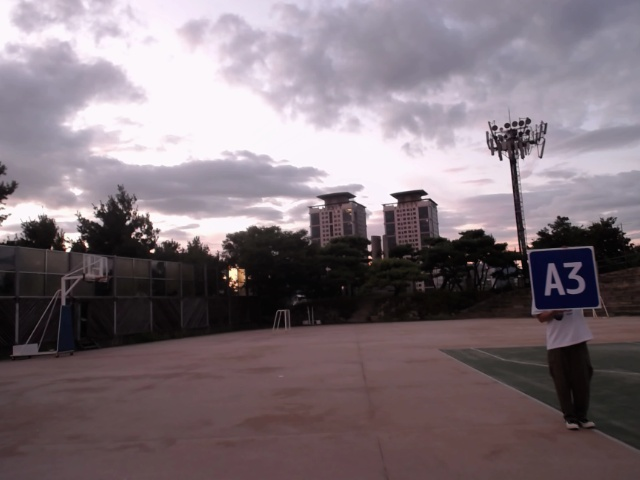delivery_a3: (527, 247, 600, 313)
